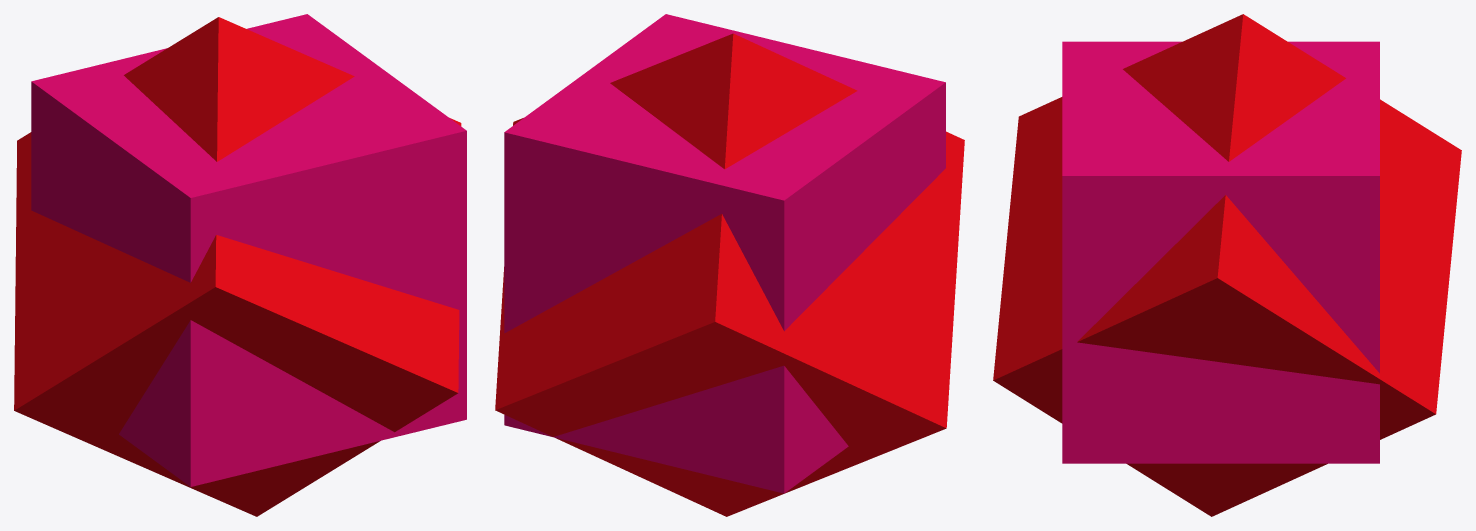
The model's file is EnemyBullet.fbx.
The picture shows the model from 3 angles, left to right: view 1: azimuth 30°, elevation 25°; view 2: azimuth 150°, elevation 25°; view 3: azimuth 270°, elevation 25°; orthographic projection.
Parts seen in each view (by area): view 1: 立方体, 立方体.001; view 2: 立方体, 立方体.001; view 3: 立方体, 立方体.001.
Boxes of the visible parts, bbox=[...] form: 立方体: bbox=[31, 14, 466, 486]; 立方体.001: bbox=[14, 17, 461, 516]; 立方体: bbox=[504, 14, 945, 493]; 立方体.001: bbox=[495, 33, 964, 516]; 立方体: bbox=[1062, 41, 1379, 463]; 立方体.001: bbox=[993, 14, 1461, 516].
Size of the model in its own units: 25.69 by 27.71 by 23.93.
